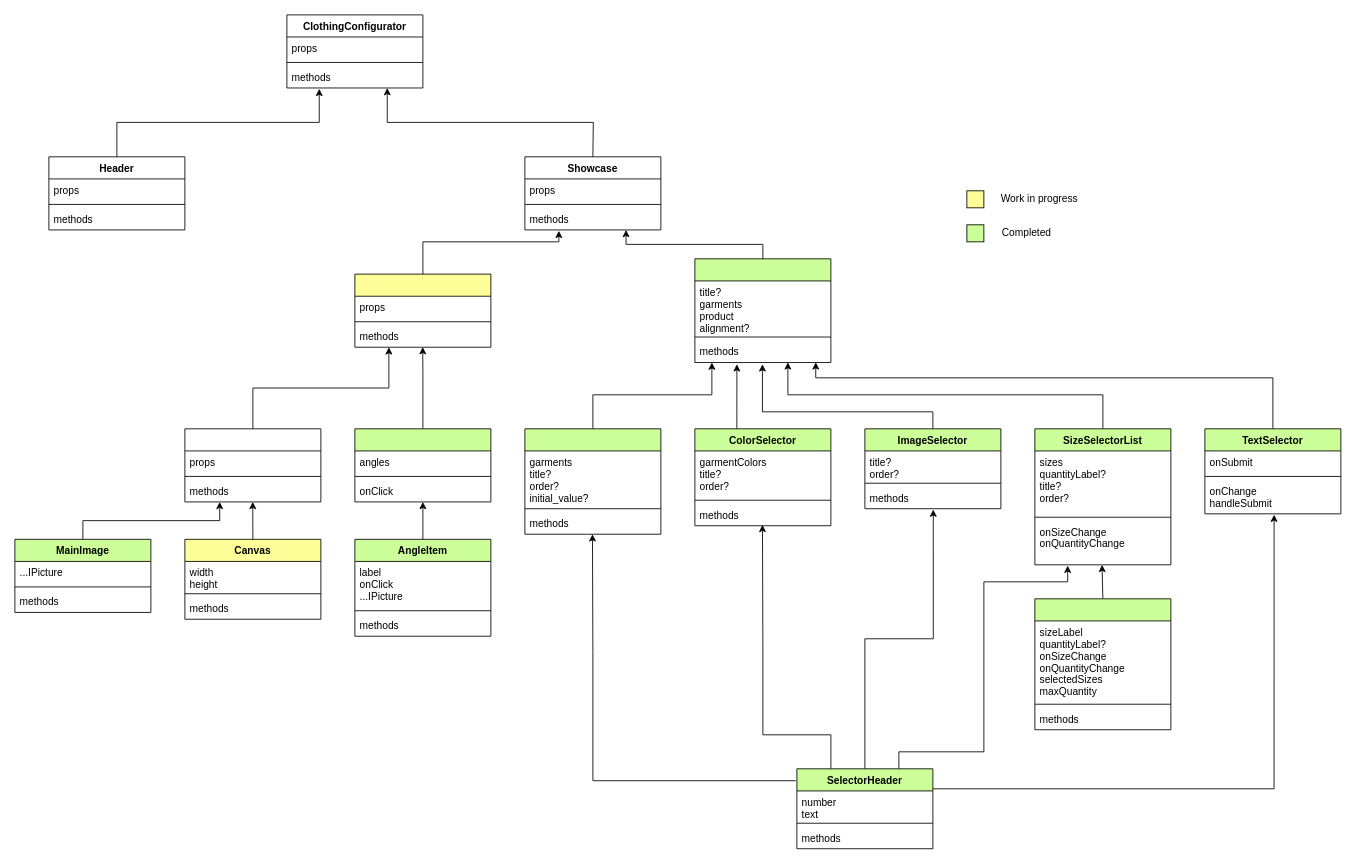
Image size: 1356x866. Some labels were removed from this diagram. Here are the shapes that lost their labels. From the top down, the box of each, then its label:
(354, 273, 491, 347): ViewArea
(694, 258, 831, 363): ConfigContainer
(184, 428, 321, 502): Viewport
(354, 428, 491, 502): AnglesList
(524, 428, 661, 534): GarmentSelector
(1034, 598, 1171, 730): SizeSelectorItem
